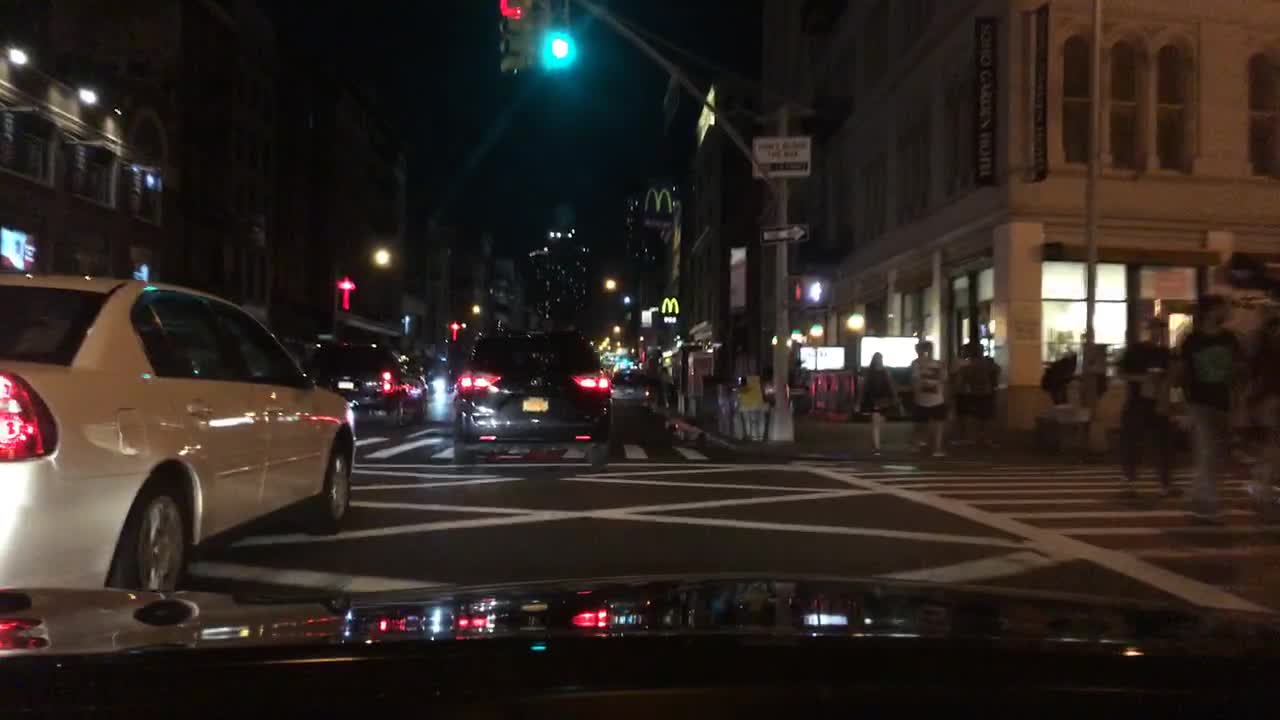car: (0, 267, 360, 595), (448, 329, 617, 475), (304, 336, 436, 429), (757, 378, 811, 411), (612, 365, 654, 402), (424, 355, 457, 394)
person: (1170, 292, 1247, 521), (1112, 317, 1189, 503), (1245, 313, 1279, 507), (953, 340, 1003, 452), (850, 350, 902, 457), (906, 340, 951, 459), (1037, 336, 1078, 407)
traffic light: (495, 0, 538, 76), (541, 2, 577, 70), (803, 275, 826, 305), (787, 274, 803, 306)
traffic sign: (749, 133, 811, 179), (757, 223, 810, 246), (728, 262, 749, 312)
